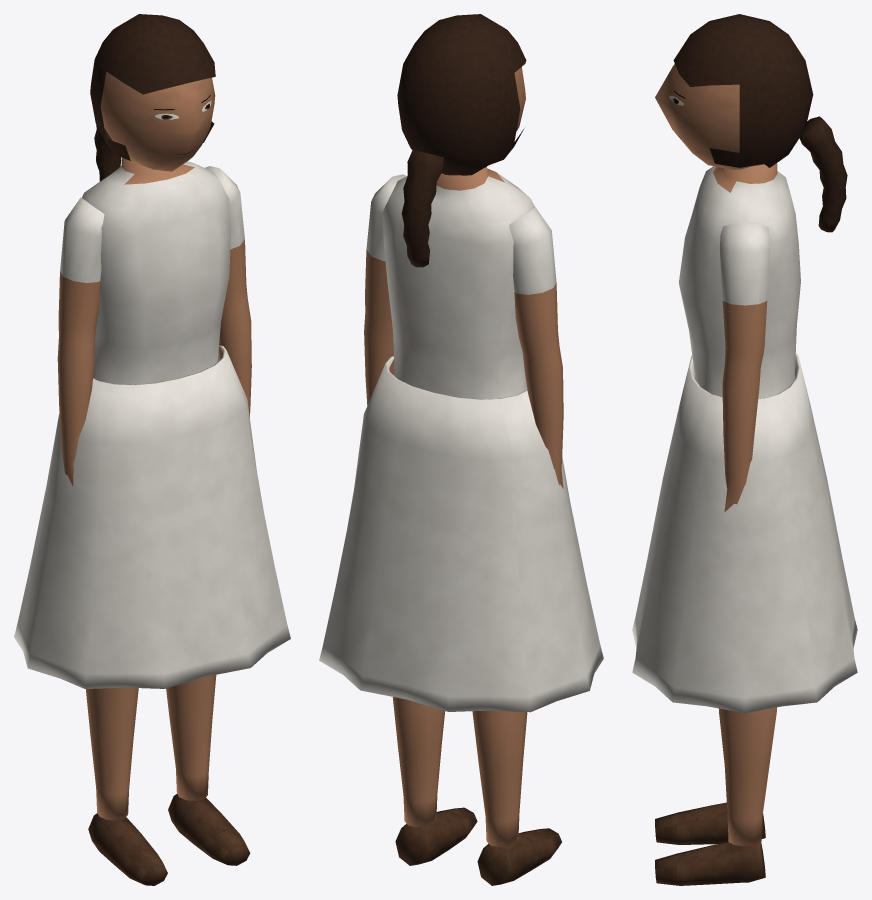
Rendered from persona_nina_c.obj.
The picture shows the model from 3 angles, left to right: view 1: azimuth 30°, elevation 25°; view 2: azimuth 150°, elevation 25°; view 3: azimuth 270°, elevation 25°; orthographic projection. The views are drawn at different scales.
Visible parts, largest first — view 1: Falda, Torso, BrazoDer, Pelo, PiernaDer, Cabeza, PiernaIzq, BrazoIzq; view 2: Falda, Torso, Pelo, BrazoDer, PiernaDer, PiernaIzq, BrazoIzq; view 3: Falda, Torso, Pelo, BrazoIzq, PiernaIzq, Cabeza, PiernaDer.
Part boxes in pixels (box(x1,y1,x2,y2)): Falda: box(14, 345, 290, 688); Torso: box(82, 158, 230, 384); BrazoDer: box(57, 197, 104, 485); Pelo: box(90, 14, 215, 181); PiernaDer: box(86, 687, 167, 885); Cabeza: box(100, 71, 215, 171); PiernaIzq: box(166, 675, 250, 865); BrazoIzq: box(205, 166, 251, 417); Falda: box(319, 356, 603, 712); Torso: box(382, 166, 534, 399); Pelo: box(397, 14, 526, 267); BrazoDer: box(509, 207, 563, 488); PiernaDer: box(472, 710, 561, 885); PiernaIzq: box(392, 697, 477, 865); BrazoIzq: box(364, 174, 406, 405); Falda: box(632, 352, 857, 713); Torso: box(678, 163, 800, 398); Pelo: box(673, 14, 847, 232); BrazoIzq: box(719, 223, 770, 511); PiernaIzq: box(655, 707, 776, 885); Cabeza: box(655, 64, 764, 169); PiernaDer: box(655, 802, 765, 844).
Size of the model in its own units: 0.3628 by 1.15 by 0.2787.
5 materials, 5 textured.
